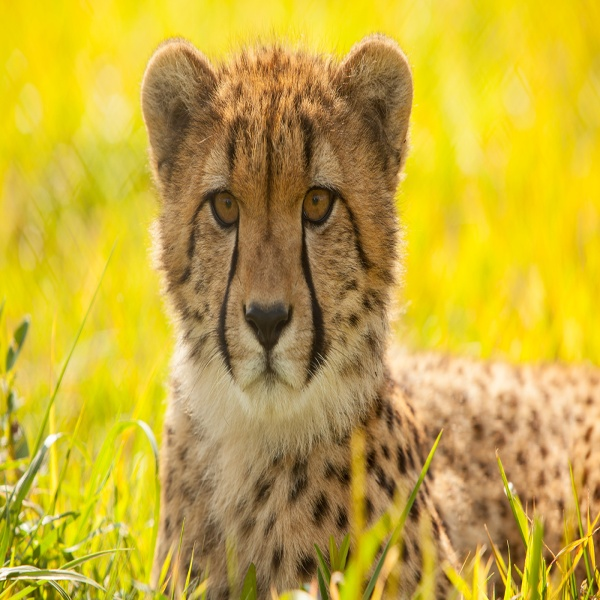Cheetah: (138, 29, 600, 599)
